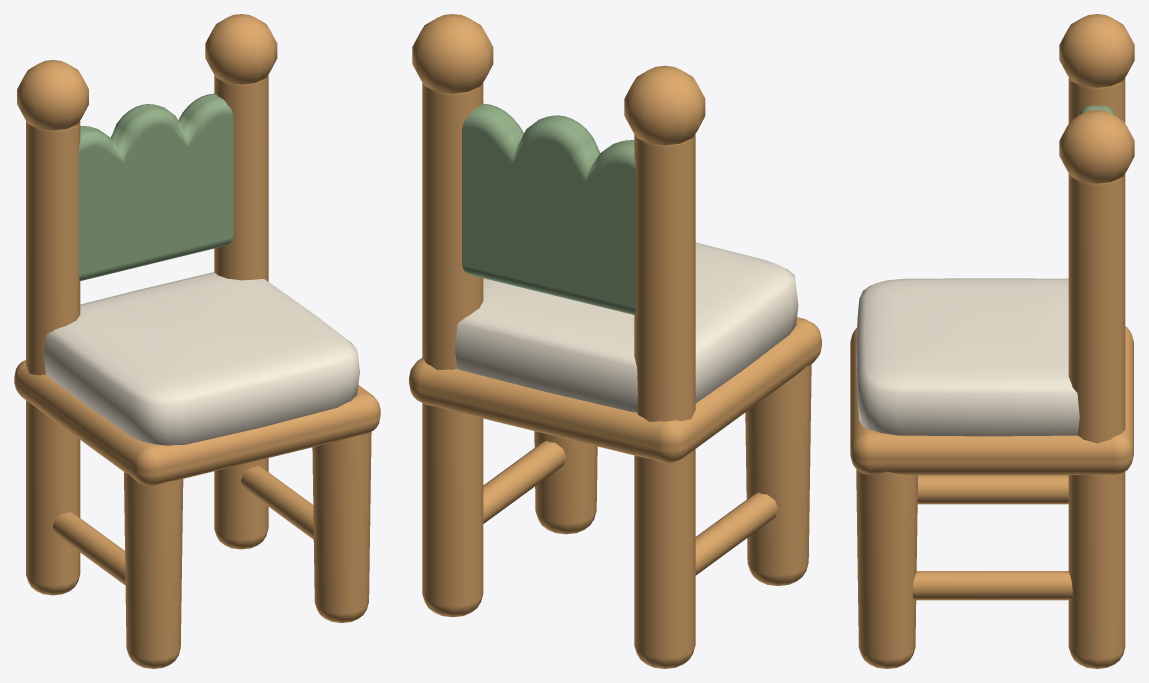
Rendered from scallop_chair.glb.
3 renders of one model, left to right at view 1: azimuth 30°, elevation 25°; view 2: azimuth 150°, elevation 25°; view 3: azimuth 270°, elevation 25°, orthographic. The views are drawn at different scales.
Visible parts, largest first — view 1: 01-chair_mesh; view 2: 01-chair_mesh; view 3: 01-chair_mesh.
Part boxes in pixels (x1=…): 01-chair_mesh: x1=14, y1=14, x2=380, y2=668; 01-chair_mesh: x1=409, y1=14, x2=821, y2=668; 01-chair_mesh: x1=850, y1=14, x2=1134, y2=668.
Bounding box in the file's own units: 0.5326 × 1.07 × 0.5013.
